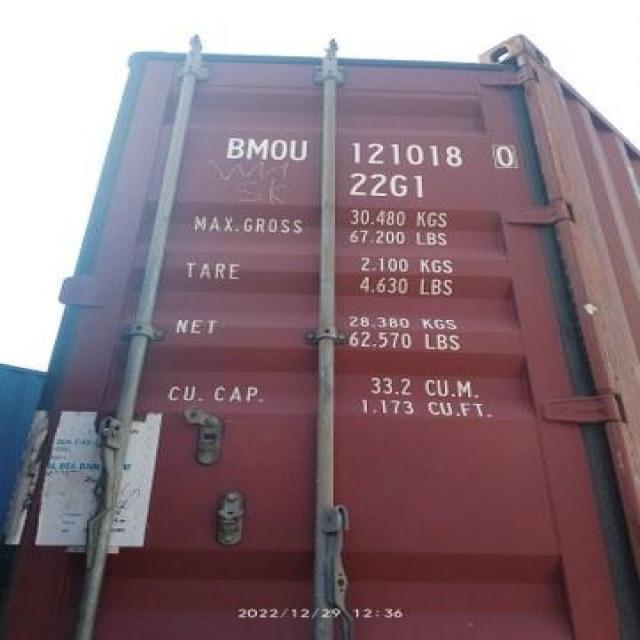ISO: (342, 166, 438, 194)
container_number: (226, 142, 535, 162)
